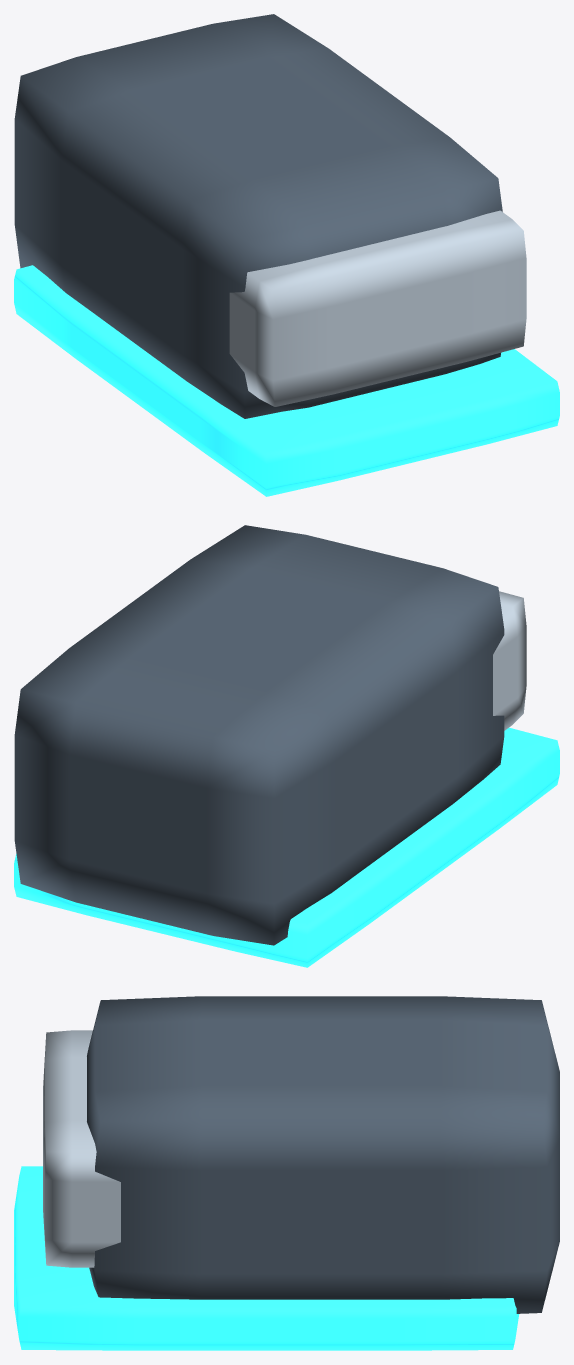
The model's file is boots-pulse.glb.
3 renders of one model, top to bottom at view 1: azimuth 30°, elevation 25°; view 2: azimuth 150°, elevation 25°; view 3: azimuth 270°, elevation 25°, orthographic.
Visible parts, largest first — view 1: Boot, Toe, Sole; view 2: Boot, Sole, Toe; view 3: Boot, Sole, Toe.
Part boxes in pixels (x1,y1,x2,y2): Boot: [14, 14, 502, 418]; Toe: [229, 210, 526, 406]; Sole: [14, 265, 559, 496]; Boot: [14, 525, 504, 945]; Sole: [14, 727, 559, 967]; Toe: [493, 591, 526, 730]; Boot: [87, 996, 559, 1313]; Sole: [14, 1166, 519, 1350]; Toe: [43, 1030, 120, 1267].
Bounding box in the file's own units: 0.82 × 0.605 × 1.31.
